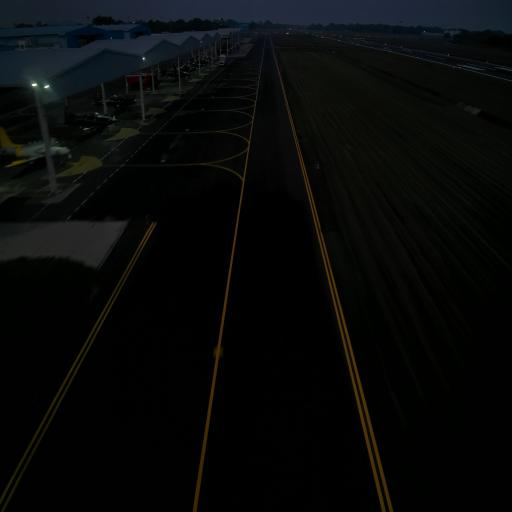on: (316, 161, 321, 170)
